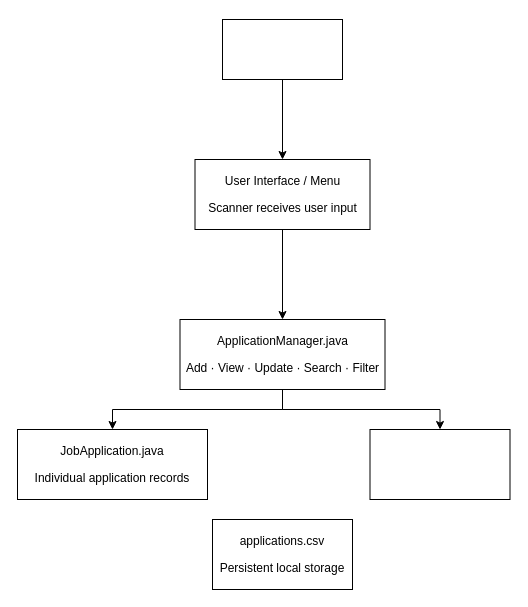
Image size: 528x607. Some labels were removed from this diagram. Here are the shapes that lost their labels. From the top down, the centre of each, then its label:
At (282,49): "START: Main.java Program entry point".
At (439,464): "FileHandler.java CSV file operations".
